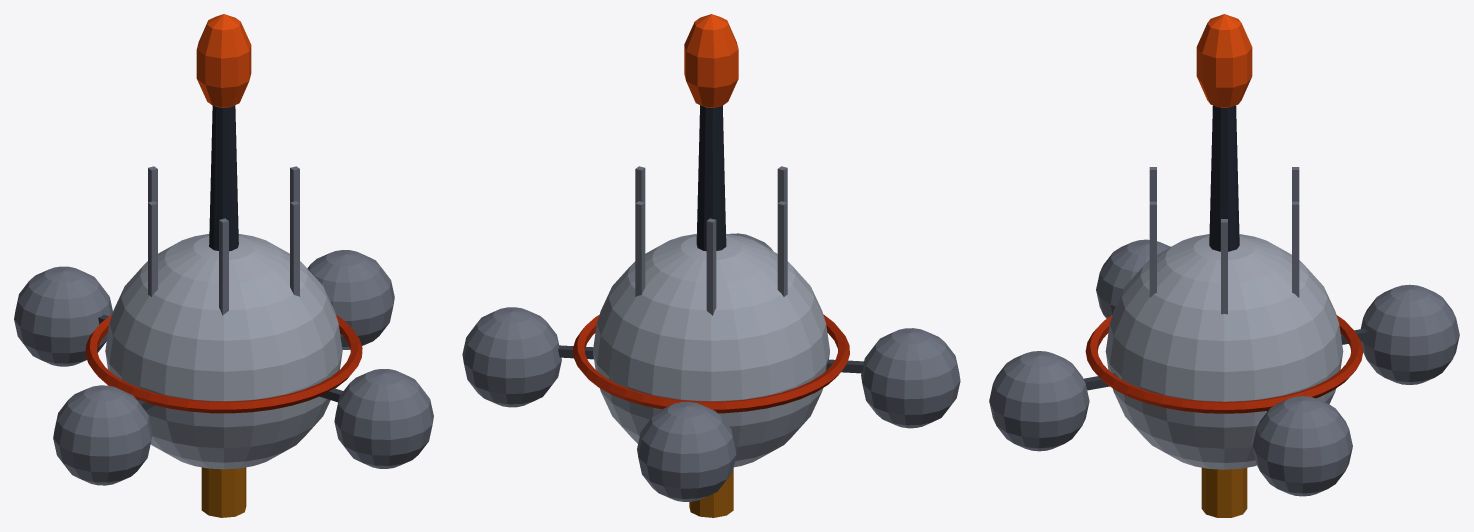
The model's file is refinery.glb.
3 renders of one model, left to right at view 1: azimuth 30°, elevation 25°; view 2: azimuth 150°, elevation 25°; view 3: azimuth 270°, elevation 25°, orthographic.
Parts seen in each view (by area): view 1: refinery; view 2: refinery; view 3: refinery.
Part boxes in pixels (box(x1,y1,x2,y2)): refinery: box(14, 14, 433, 517); refinery: box(462, 14, 960, 517); refinery: box(989, 14, 1459, 517).
Size of the model in its own units: 1.3 by 1.51 by 1.3.
